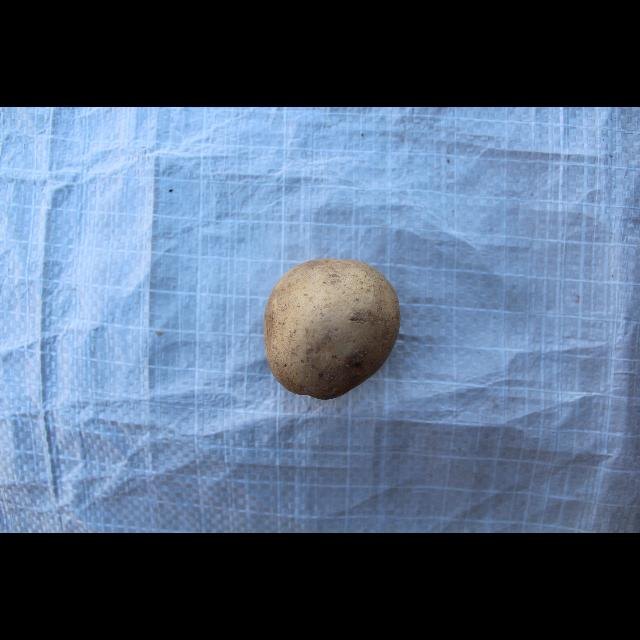Diseased-fungal potato: (258, 252, 408, 403)
